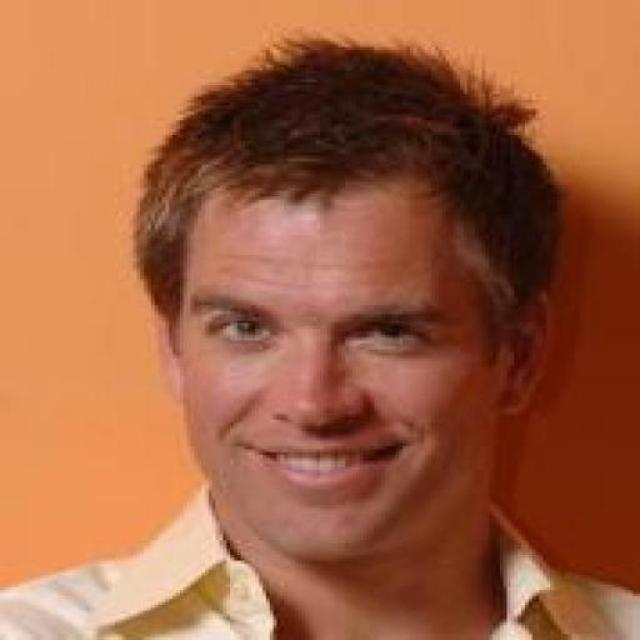bareface: (124, 118, 502, 544)
